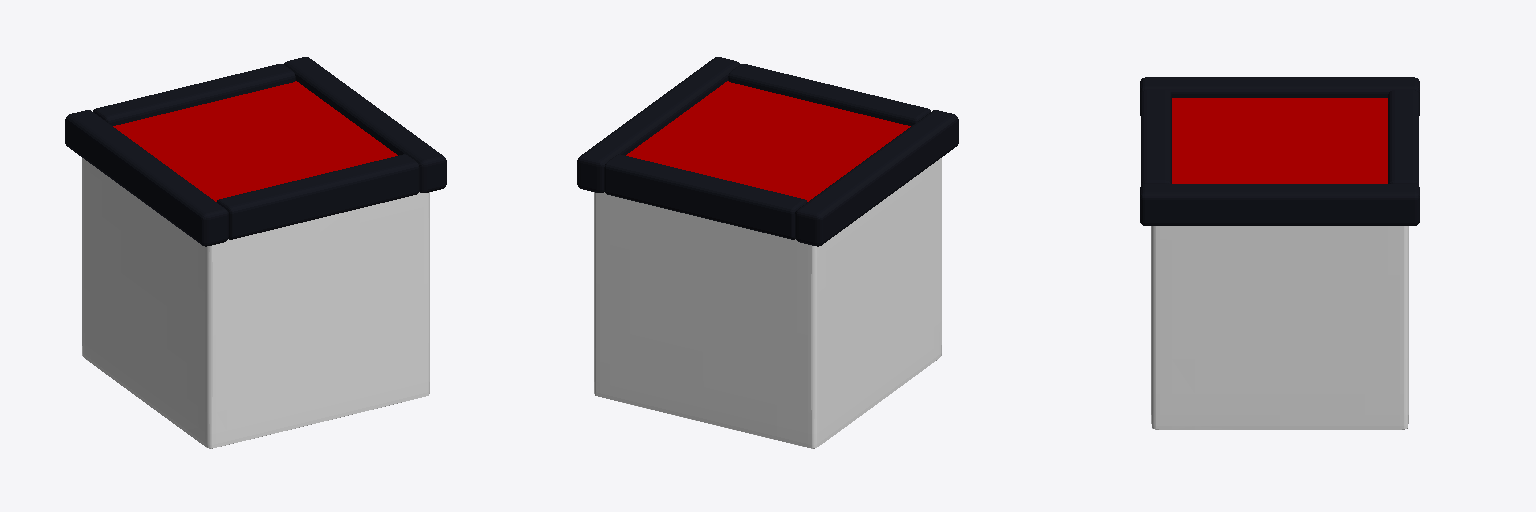
The model's file is Platform.obj.
3 renders of one model, left to right at view 1: azimuth 30°, elevation 25°; view 2: azimuth 150°, elevation 25°; view 3: azimuth 270°, elevation 25°, orthographic.
Parts seen in each view (by area): view 1: platform; view 2: platform; view 3: platform.
Part boxes in pixels (x1,y1,x2,y2): platform: (65, 57, 446, 448); platform: (577, 57, 958, 448); platform: (1140, 77, 1419, 429).
Bounding box in the file's own units: 0.6975 × 0.6565 × 0.6901.